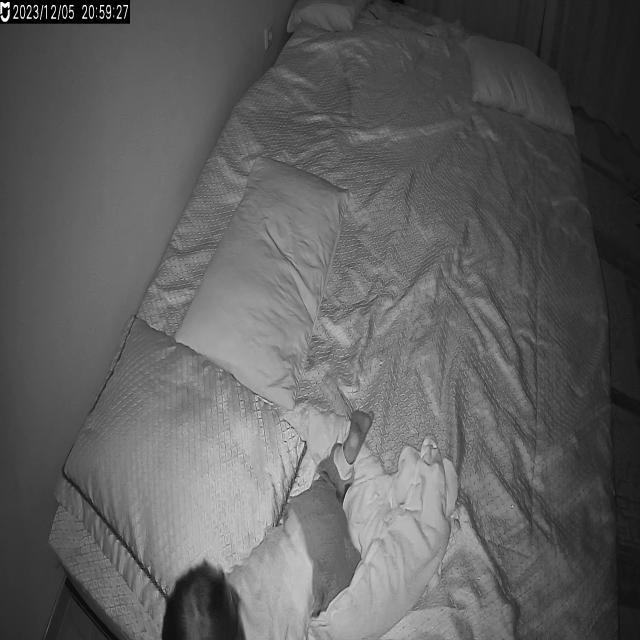baby: (142, 396, 388, 640)
